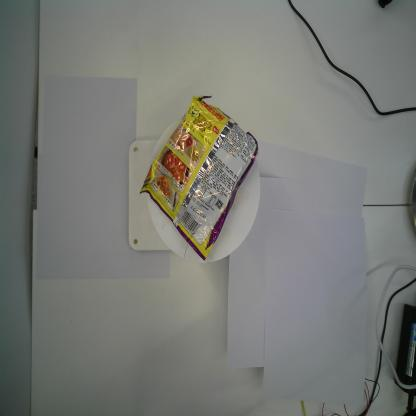Instant Noodles: (138, 94, 260, 262)
